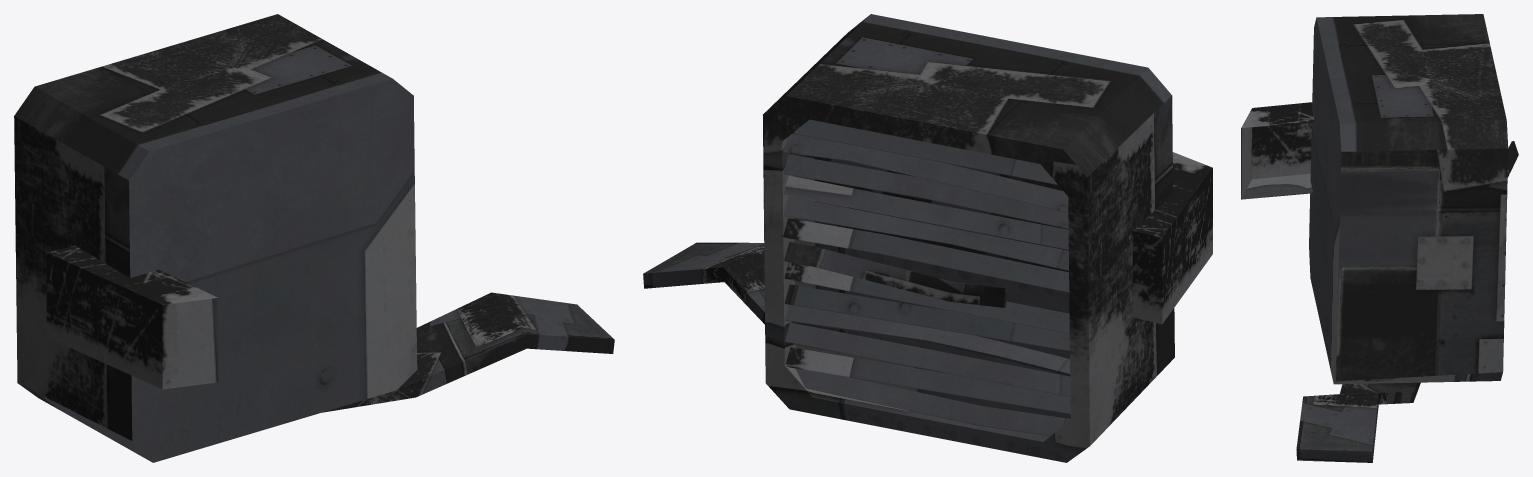
Rendered from HCD11.fbx.
3 renders of one model, left to right at view 1: azimuth 30°, elevation 25°; view 2: azimuth 150°, elevation 25°; view 3: azimuth 270°, elevation 25°, orthographic. The views are drawn at different scales.
Parts seen in each view (by area): view 1: elevenD; view 2: elevenD; view 3: elevenD.
Boxes of the visible parts, x1,y1,x2,y2 form: elevenD: [14, 14, 614, 462]; elevenD: [643, 14, 1212, 462]; elevenD: [1241, 14, 1518, 462].
Size of the model in its own units: 5425 by 3255 by 2981.
1 material, 1 textured.
